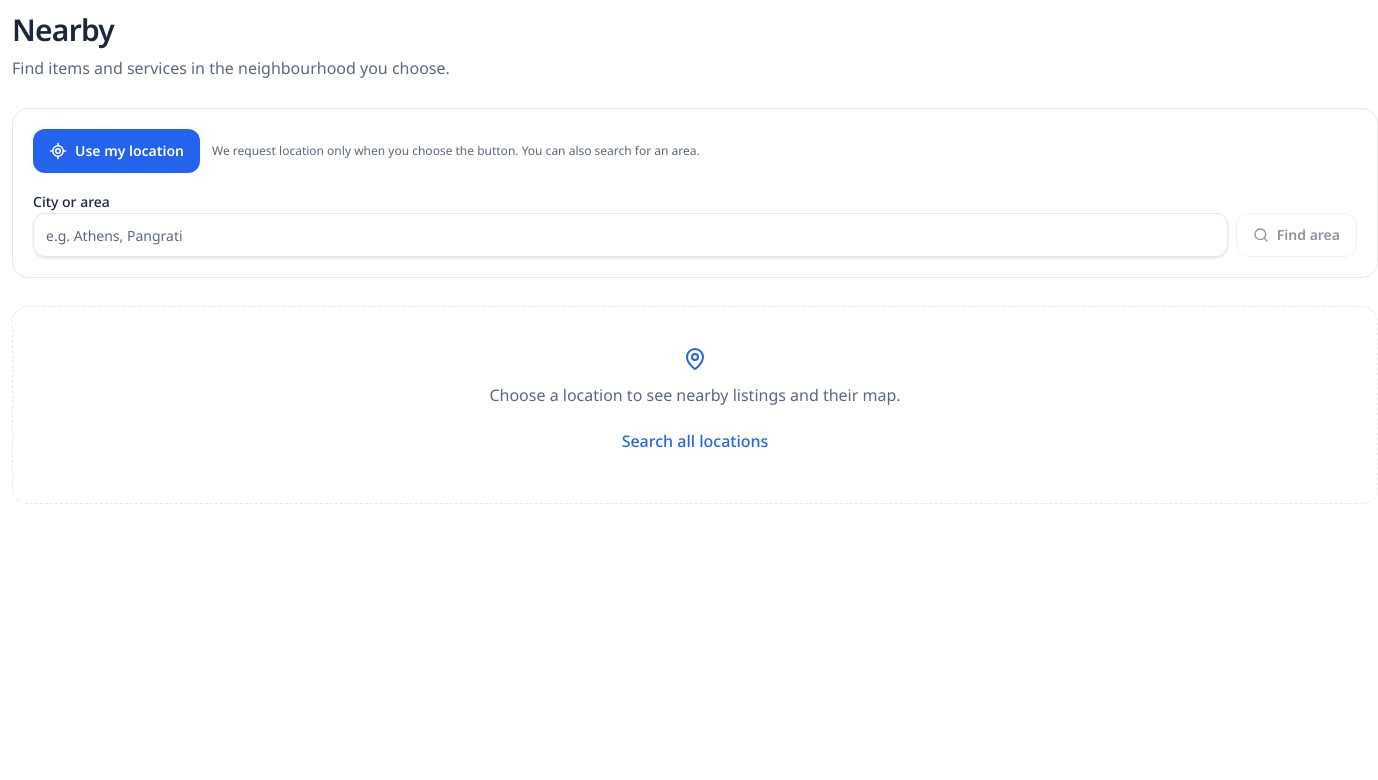
it: Nearby discovery › keeps manual fallback available when location permission is denied
The image size is (1378, 780).
Click the button "Use my location". click: (116, 151)
box: [33,129,200,173]
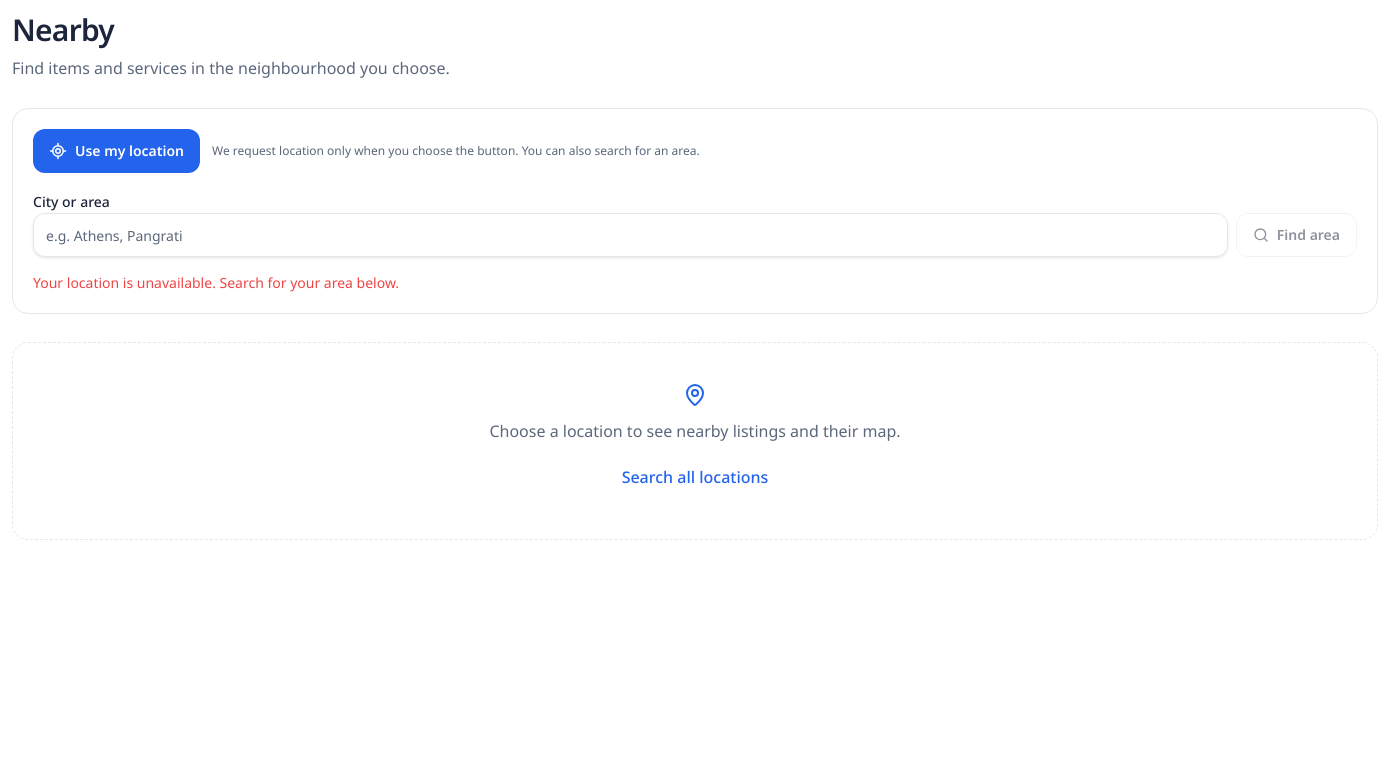
Expected: the field labelled "City or area" is enabled, [33,213,1228,257]
Expected: the message shows "Search for your area", [33,273,399,292]
